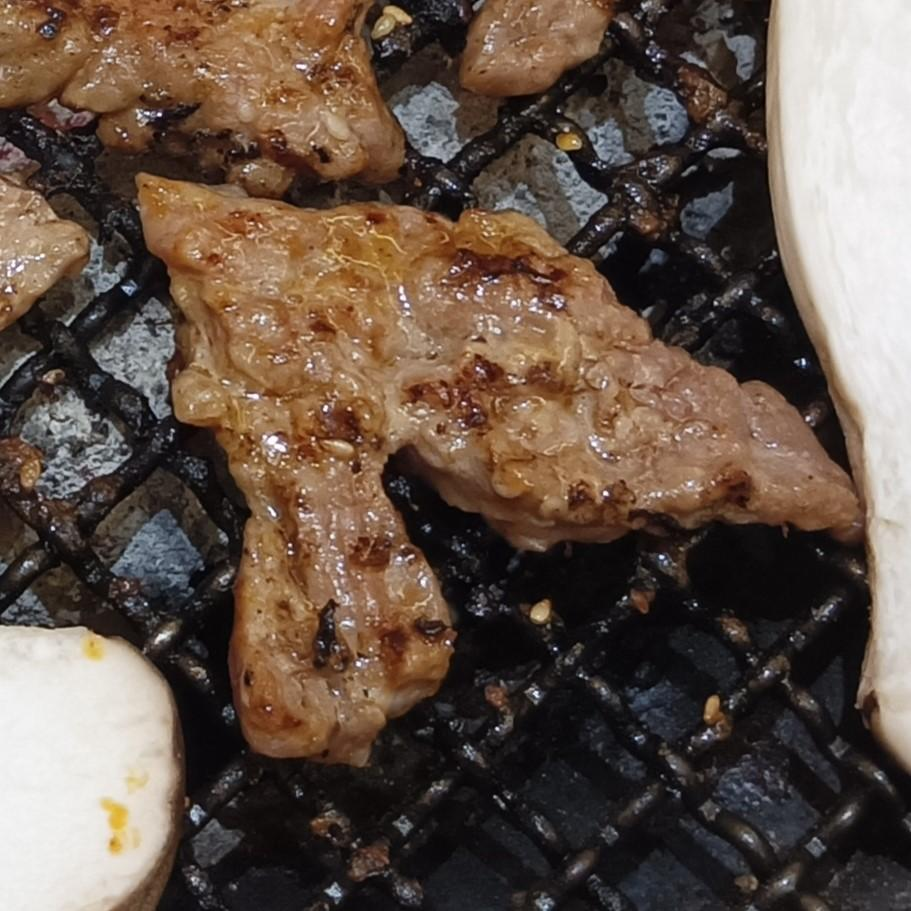Well-Cooked: (135, 175, 863, 767), (0, 0, 410, 203)
